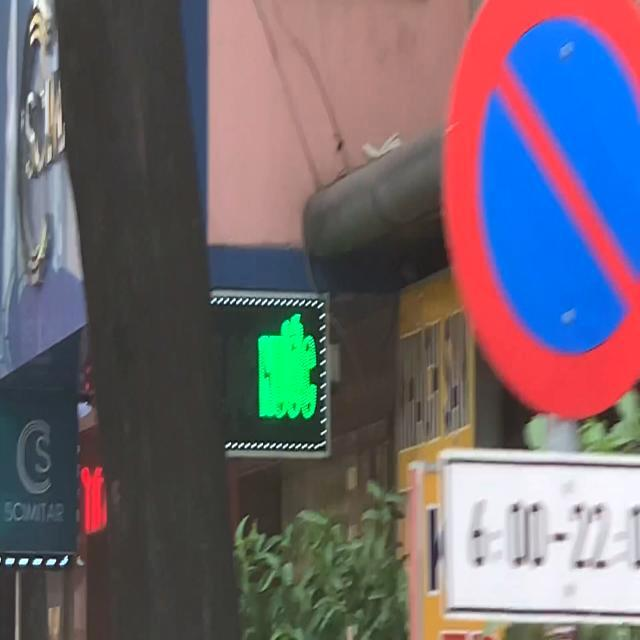Cam do xe: (441, 0, 640, 422)
